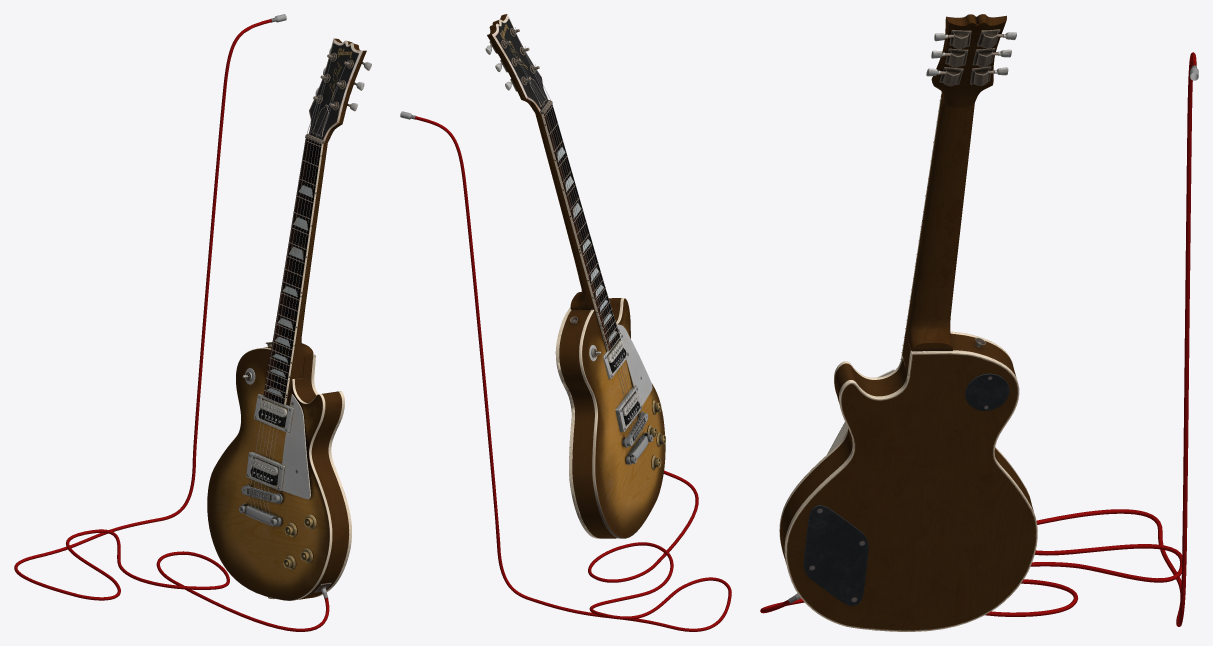
The model's file is gibson_guitar_light_meshopt.glb.
3 renders of one model, left to right at view 1: azimuth 30°, elevation 25°; view 2: azimuth 150°, elevation 25°; view 3: azimuth 270°, elevation 25°, orthographic. The views are drawn at different scales.
Visible parts, largest first — view 1: Les_Paul_Body.001, Les_Paul_BodyCover.001, BezierCurve.001; view 2: Les_Paul_Body.001, Les_Paul_BodyCover.001, BezierCurve.001; view 3: Les_Paul_Body.001, BezierCurve.001, Les_Paul_BodyCover.001.
Boxes of the visible parts, x1,y1,x2,y2 form: Les_Paul_Body.001: (239,38,371,599); Les_Paul_BodyCover.001: (207,348,332,600); BezierCurve.001: (14,14,329,631); Les_Paul_Body.001: (485,14,665,538); Les_Paul_BodyCover.001: (579,298,665,538); BezierCurve.001: (400,111,731,631); Les_Paul_Body.001: (780,14,1037,631); BezierCurve.001: (760,52,1198,626); Les_Paul_BodyCover.001: (779,331,1030,555).
Size of the model in its own units: 0.5963 by 0.9895 by 0.5758.
8 materials, 7 textured.
